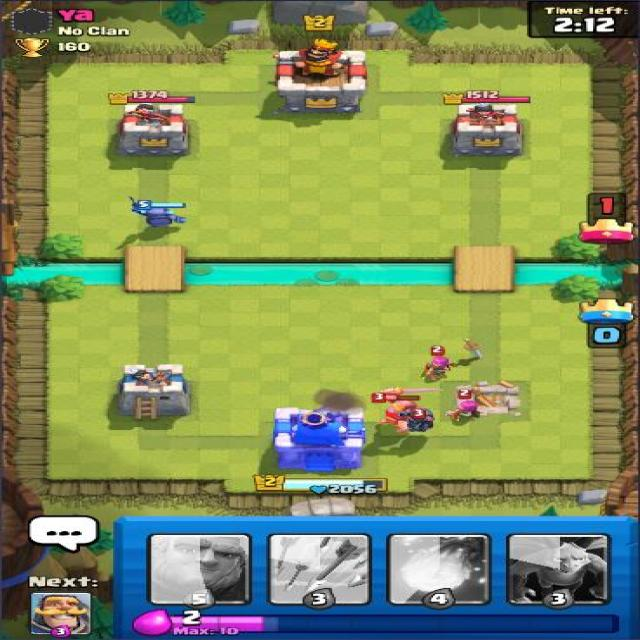Enemy-Archer: (418, 344, 458, 384), (444, 388, 485, 425)
Enemy-Knight: (365, 386, 442, 433)
Enemy-MiniPEKKA: (396, 403, 436, 435)
Player-MiniPEKKA: (125, 193, 193, 230)
